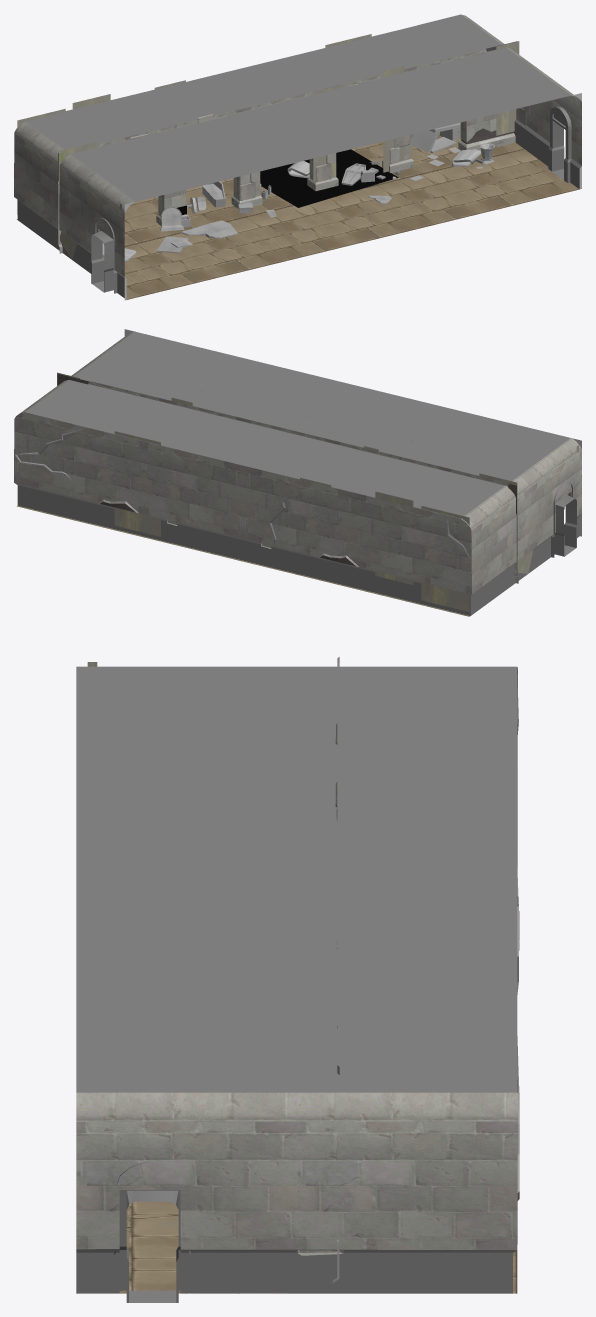
File: MSH_QuestMausoleum_L1_R3_optimized.fbx
3 views of the same model, one above another, from view 1: azimuth 30°, elevation 25°; view 2: azimuth 150°, elevation 25°; view 3: azimuth 270°, elevation 25° (orthographic). The views are drawn at different scales.
Parts seen in each view (by area): view 1: lightmap5, lightmap4, lightmap8, MSH_QuestMausoleum_L1_R3_Decals_01, lightmap3, lightmap2, lightmap1; view 2: lightmap8, lightmap5, MSH_QuestMausoleum_L1_R3_Decals_01, lightmap1, lightmap4; view 3: lightmap5, lightmap8, lightmap4, lightmap1.
Boxes of the visible parts, bbox=[...] form: lightmap5: bbox=[24, 15, 571, 253]; lightmap4: bbox=[17, 132, 579, 299]; lightmap8: bbox=[14, 14, 581, 297]; MSH_QuestMausoleum_L1_R3_Decals_01: bbox=[17, 34, 519, 259]; lightmap3: bbox=[86, 143, 494, 261]; lightmap2: bbox=[129, 83, 529, 227]; lightmap1: bbox=[91, 106, 571, 293]; lightmap8: bbox=[14, 331, 581, 615]; lightmap5: bbox=[25, 331, 571, 583]; MSH_QuestMausoleum_L1_R3_Decals_01: bbox=[57, 372, 578, 611]; lightmap1: bbox=[551, 482, 576, 557]; lightmap4: bbox=[17, 505, 554, 616]; lightmap5: bbox=[76, 657, 517, 1282]; lightmap8: bbox=[76, 667, 519, 1293]; lightmap4: bbox=[76, 1201, 517, 1293]; lightmap1: bbox=[114, 1161, 190, 1302].
Size of the model in its own units: 30.91 by 6.65 by 12.56.
8 materials, 6 textured.
